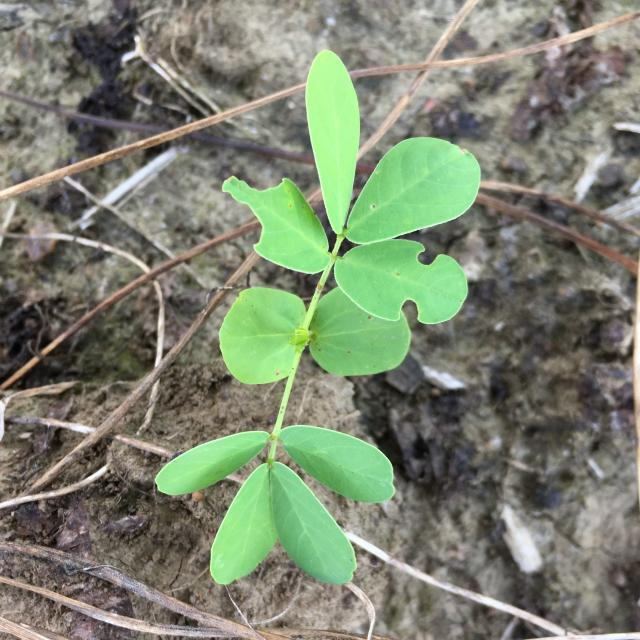Sicklepod: (155, 49, 481, 585)
